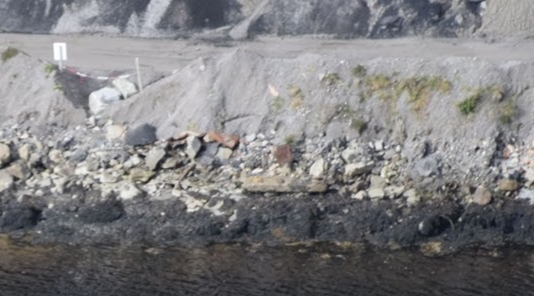together_barrel: (126, 121, 242, 172)
